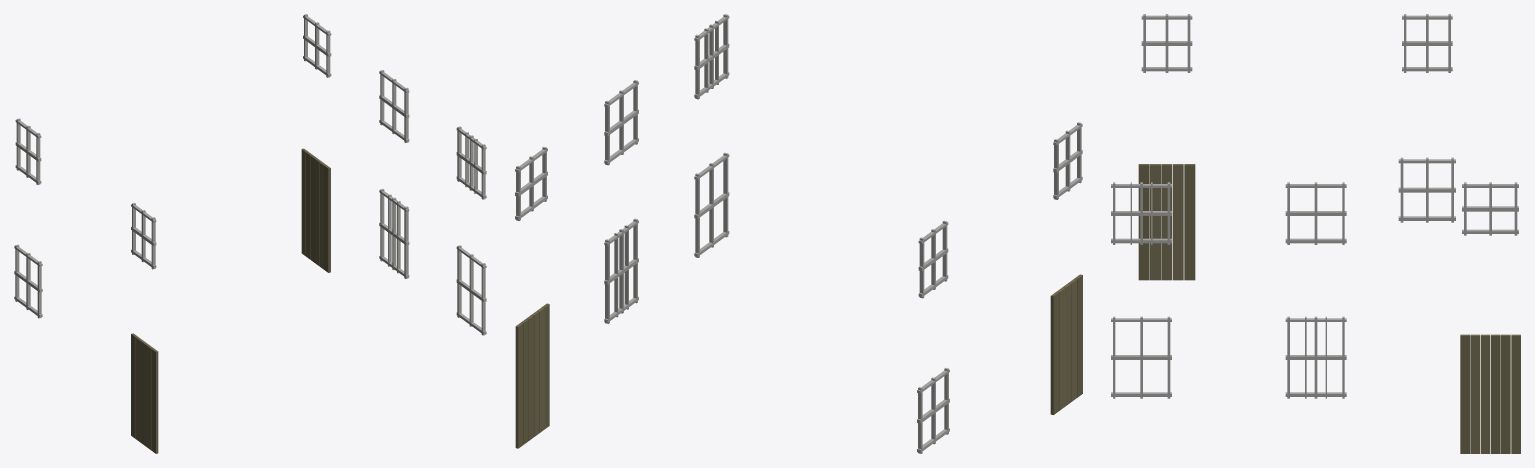
File: SM_Bld_019_Wood.glb
3 views of the same model, side by side, from view 1: azimuth 30°, elevation 25°; view 2: azimuth 150°, elevation 25°; view 3: azimuth 270°, elevation 25° (orthographic). The views are drawn at different scales.
Parts seen in each view (by area): view 1: SM_Bld_019_Wood; view 2: SM_Bld_019_Wood; view 3: SM_Bld_019_Wood.
Boxes of the visible parts, <box> form: SM_Bld_019_Wood: <box>14,14,486,453</box>; SM_Bld_019_Wood: <box>515,14,1082,453</box>; SM_Bld_019_Wood: <box>1111,14,1520,453</box>.
Bounding box in the file's own units: 6.57 × 4.71 × 6.46.
